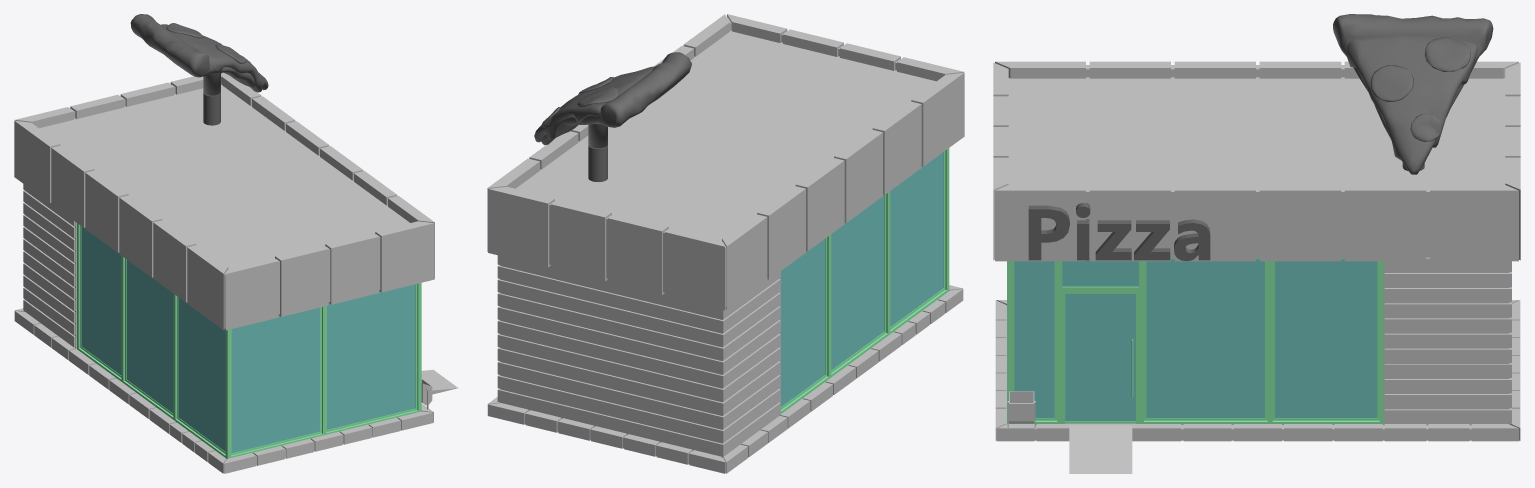
The model's file is Pizza.fbx.
3 renders of one model, left to right at view 1: azimuth 30°, elevation 25°; view 2: azimuth 150°, elevation 25°; view 3: azimuth 270°, elevation 25°, orthographic. The views are drawn at different scales.
Visible parts, largest first — view 1: Caffee_pizza, Pizza; view 2: Caffee_pizza, Pizza; view 3: Caffee_pizza, Pizza, Caffee_door.
Part boxes in pixels (box(x1,y1,x2,y2)): Caffee_pizza: box(14, 72, 458, 473); Pizza: box(130, 14, 268, 95); Caffee_pizza: box(487, 14, 964, 473); Pizza: box(534, 52, 691, 148); Caffee_pizza: box(993, 61, 1520, 473); Pizza: box(1333, 14, 1493, 174); Caffee_door: box(1065, 294, 1136, 423).
Size of the model in its own units: 608 by 640 by 839.
